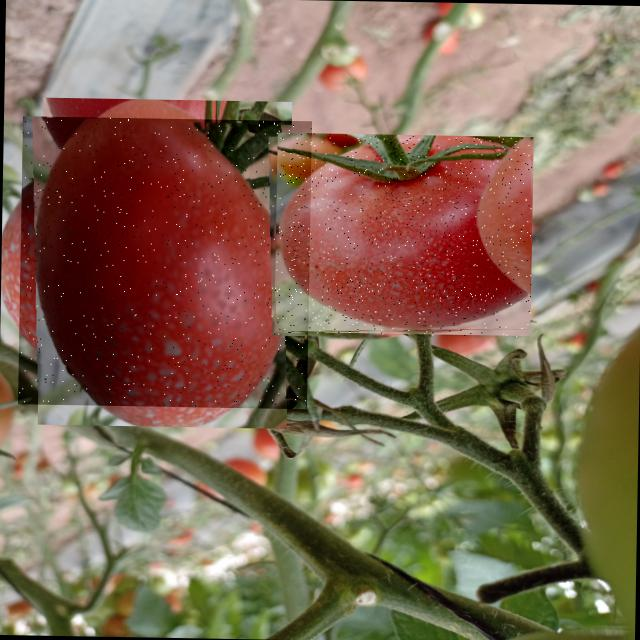Ripe Tomato: (18, 116, 312, 409), (274, 132, 533, 336)
